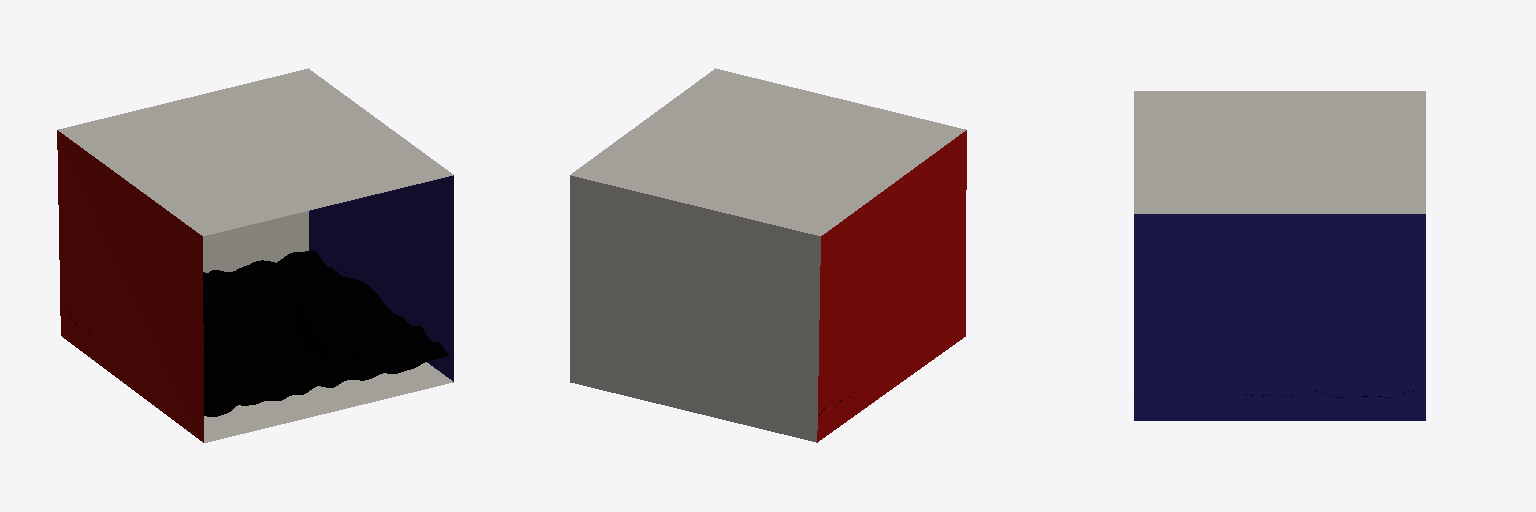
The model's file is cornellwater.obj.
The picture shows the model from 3 angles: view 1: azimuth 30°, elevation 25°; view 2: azimuth 150°, elevation 25°; view 3: azimuth 270°, elevation 25°; orthographic projection.
Visible parts, largest first — view 1: CornellBox-Water; view 2: CornellBox-Water; view 3: CornellBox-Water.
Part boxes in pixels (left/top/right/bottom): CornellBox-Water: left=57, top=68, right=453, bottom=442; CornellBox-Water: left=570, top=68, right=966, bottom=442; CornellBox-Water: left=1134, top=91, right=1425, bottom=420.
Bounding box in the file's own units: 2.02 × 1.59 × 2.03.